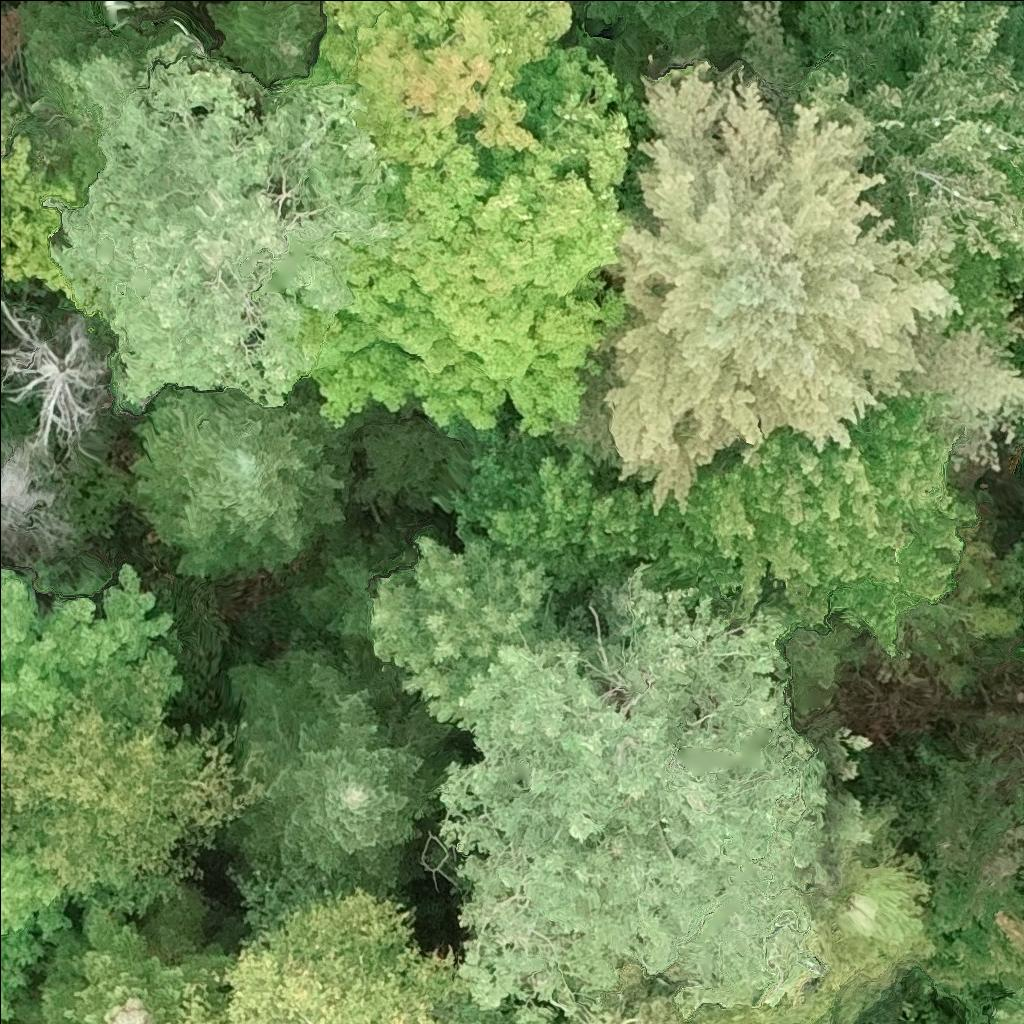crown: (564, 0, 968, 517), (434, 560, 831, 1023), (277, 0, 636, 440), (47, 33, 408, 419), (635, 388, 976, 654), (779, 0, 1023, 351), (0, 660, 269, 925), (223, 635, 461, 897), (168, 870, 520, 1023), (123, 382, 369, 590), (430, 408, 651, 597), (366, 528, 552, 722), (911, 740, 1023, 1023), (3, 888, 233, 1023), (0, 562, 186, 724), (806, 822, 945, 1023), (904, 320, 1023, 475), (557, 959, 838, 1023), (278, 521, 404, 649), (0, 849, 73, 1023), (200, 0, 323, 93), (567, 0, 745, 64), (1023, 783, 1023, 786)
